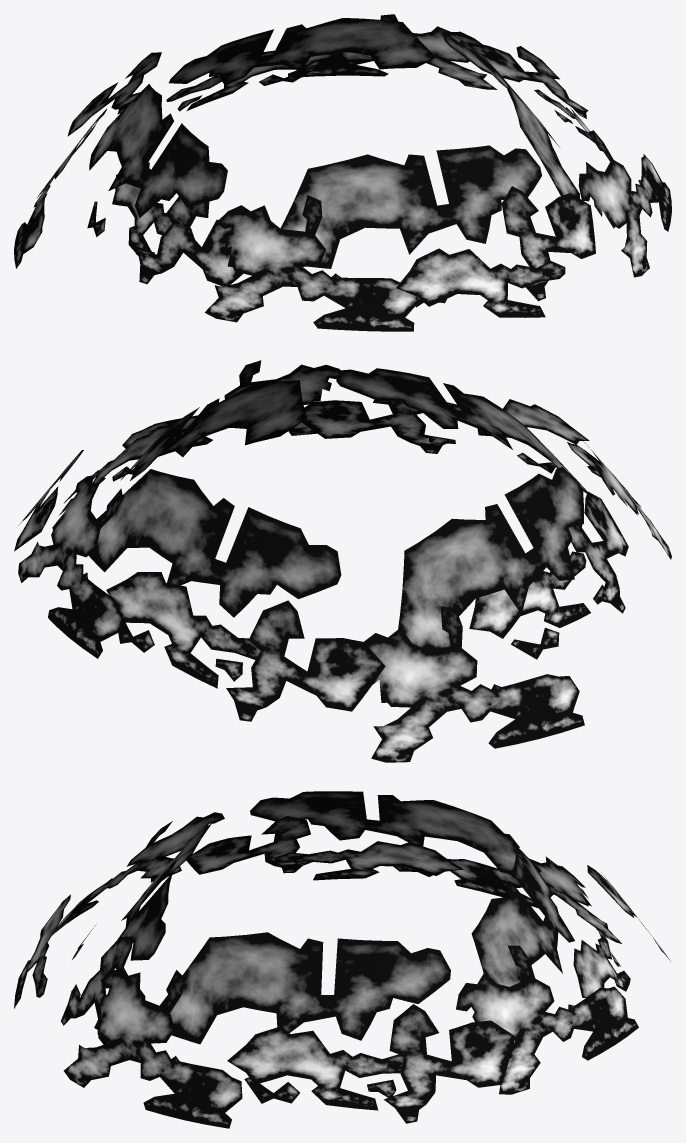
File: cloudring1.fbx
The picture shows the model from 3 angles, top to bottom: view 1: azimuth 30°, elevation 25°; view 2: azimuth 150°, elevation 25°; view 3: azimuth 270°, elevation 25°; orthographic projection. The views are drawn at different scales.
Parts seen in each view (by area): view 1: cloudsheet.1; view 2: cloudsheet.1; view 3: cloudsheet.1.
Boxes of the visible parts, x1,y1,x2,y2 form: cloudsheet.1: (14,14,671,331); cloudsheet.1: (14,360,671,762); cloudsheet.1: (14,791,670,1128).
Size of the model in its own units: 632 by 176 by 642.
